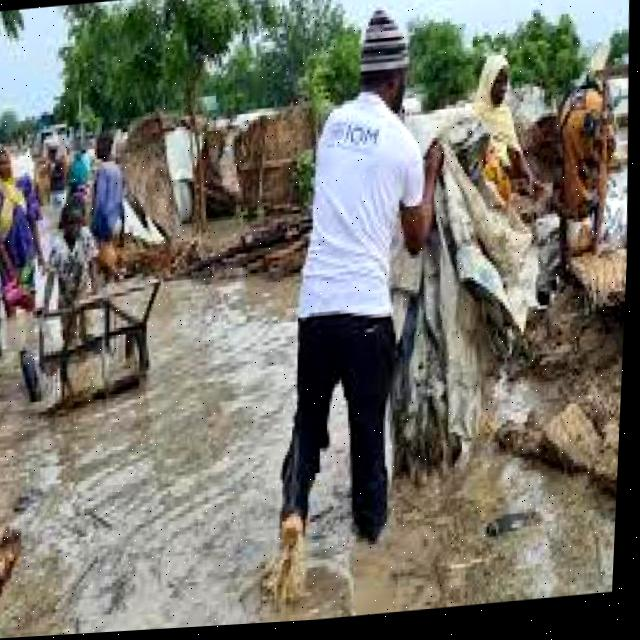civilian: (250, 0, 447, 583), (457, 46, 552, 216), (28, 192, 120, 351), (0, 143, 45, 319), (82, 124, 139, 254)
